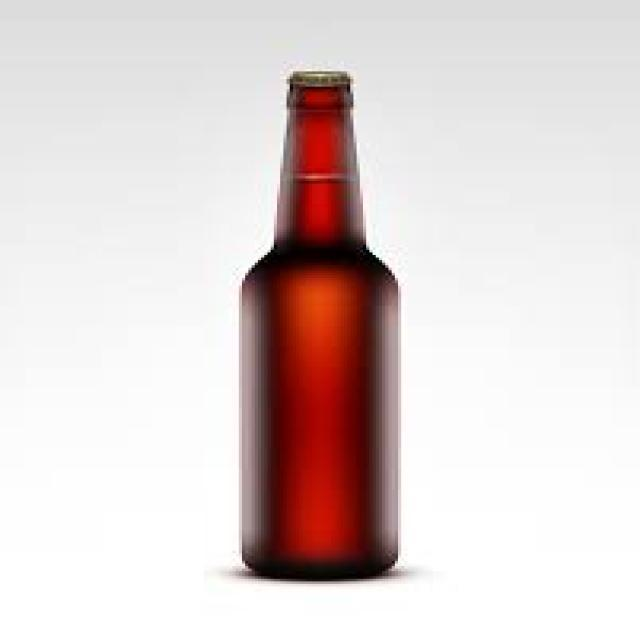Glass: (241, 83, 401, 582)
